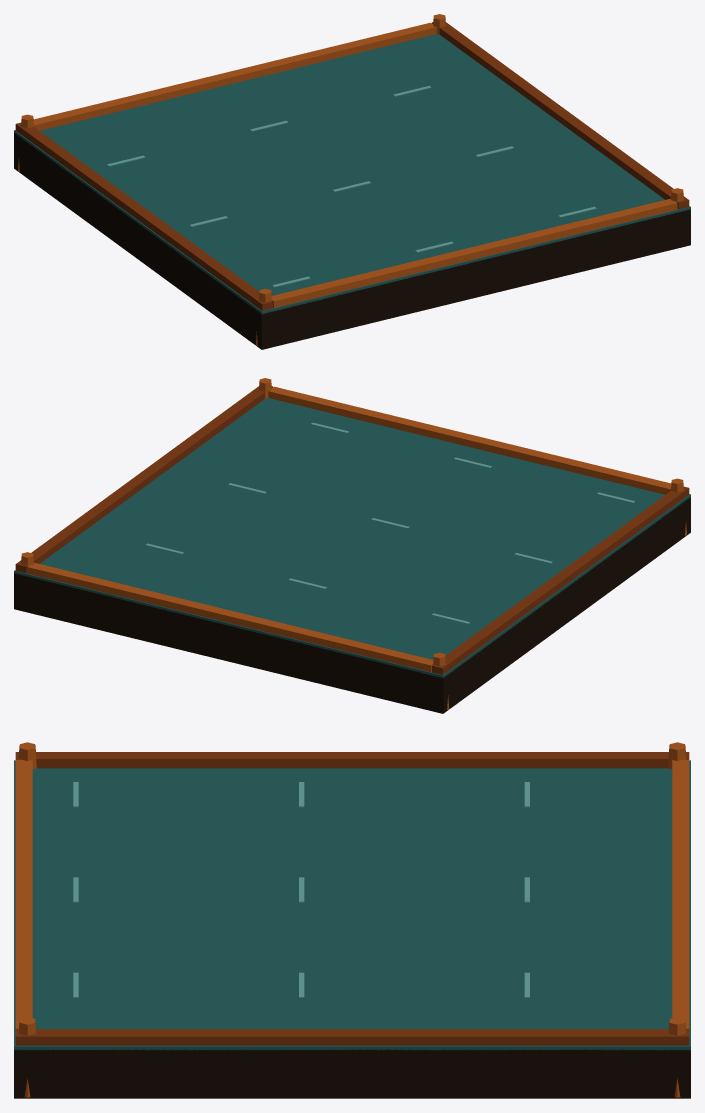
The model's file is farm-cell-bed-water.obj.
The picture shows the model from 3 angles, top to bottom: view 1: azimuth 30°, elevation 25°; view 2: azimuth 150°, elevation 25°; view 3: azimuth 270°, elevation 25°; orthographic projection. The views are drawn at different scales.
Parts seen in each view (by area): view 1: farm-cell-bed-water; view 2: farm-cell-bed-water; view 3: farm-cell-bed-water.
Part boxes in pixels (box(x1,y1,x2,y2)): farm-cell-bed-water: box(14, 14, 690, 349); farm-cell-bed-water: box(14, 378, 690, 713); farm-cell-bed-water: box(14, 742, 690, 1098).
Bounding box in the file's own units: 2.01 × 0.235 × 2.
1 material, 1 textured.
